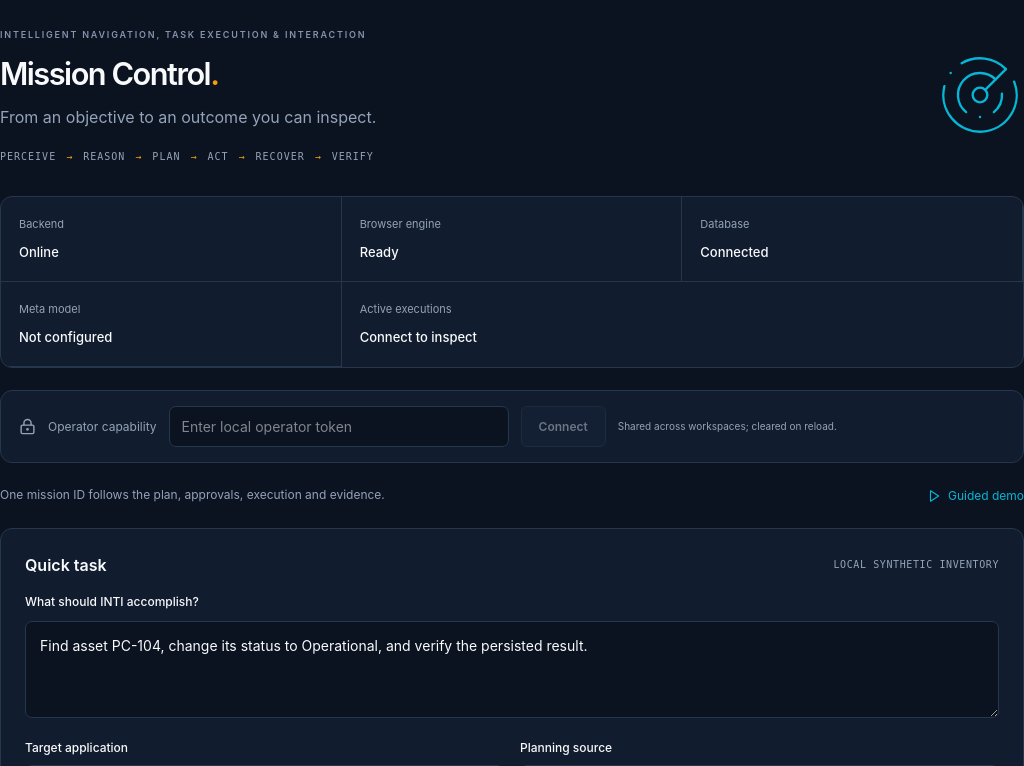
Test case: requires a capability and keeps the authored planning source explicit
Type "explicit-test-only-capability" into the password field labelled "Operator capability" at (339, 427), box [169,406,509,447]
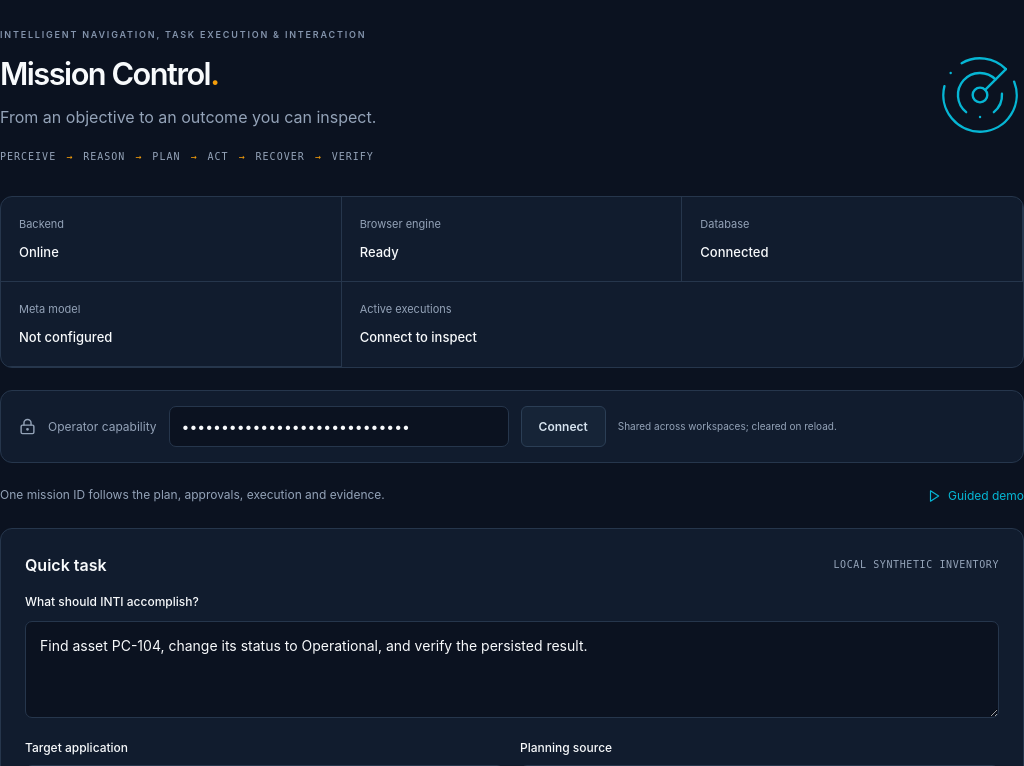
Click the button "Connect" at (563, 427), box [521,406,606,447]
(page scrolled)
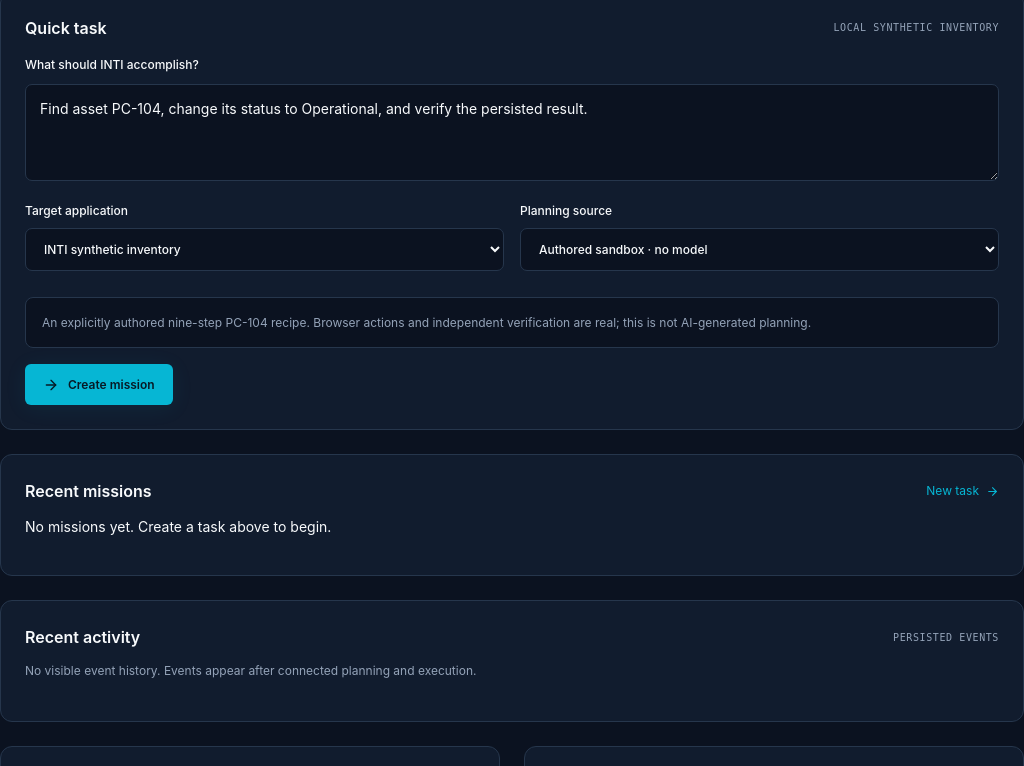
Expected: the text "No missions yet. Create a task above to begin." is shown, [25,518,331,535]
Click the button "Create mission" at (99, 385), box [25,364,173,405]
(page scrolled)
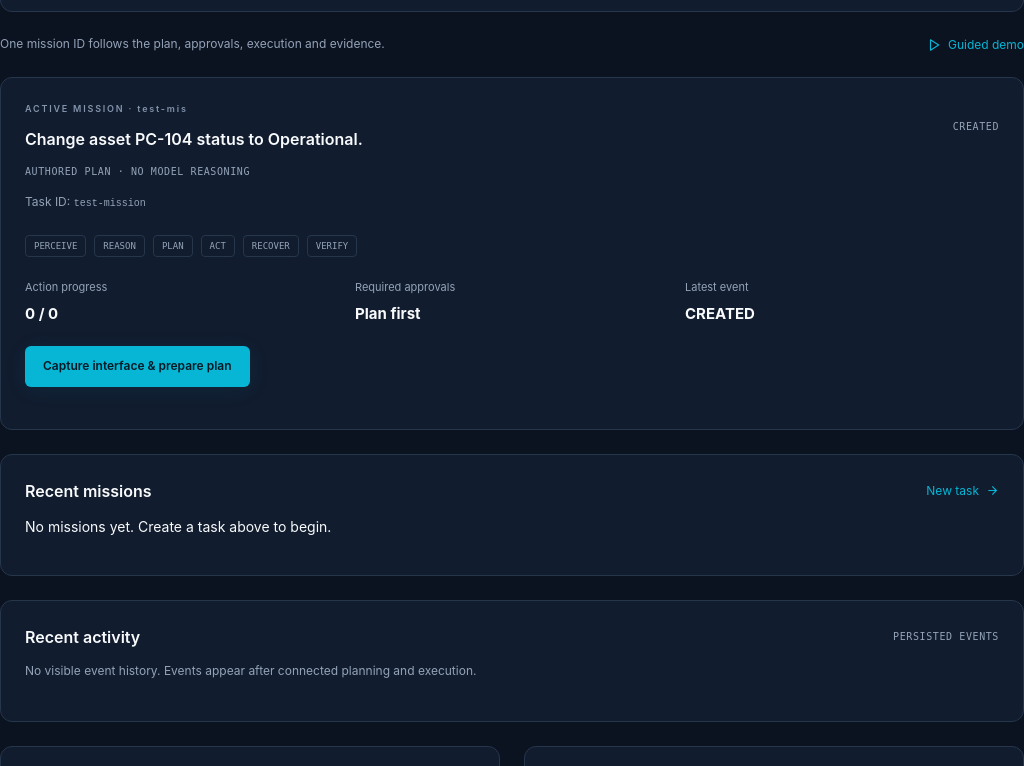
Expected: the button "Capture interface & prepare plan" is enabled, [25,346,250,387]
Expected: the text "Task ID:" is shown, [25,194,74,209]
Expected: the text "AUTHORED PLAN · NO MODEL REASONING" is shown, [25,166,250,177]
